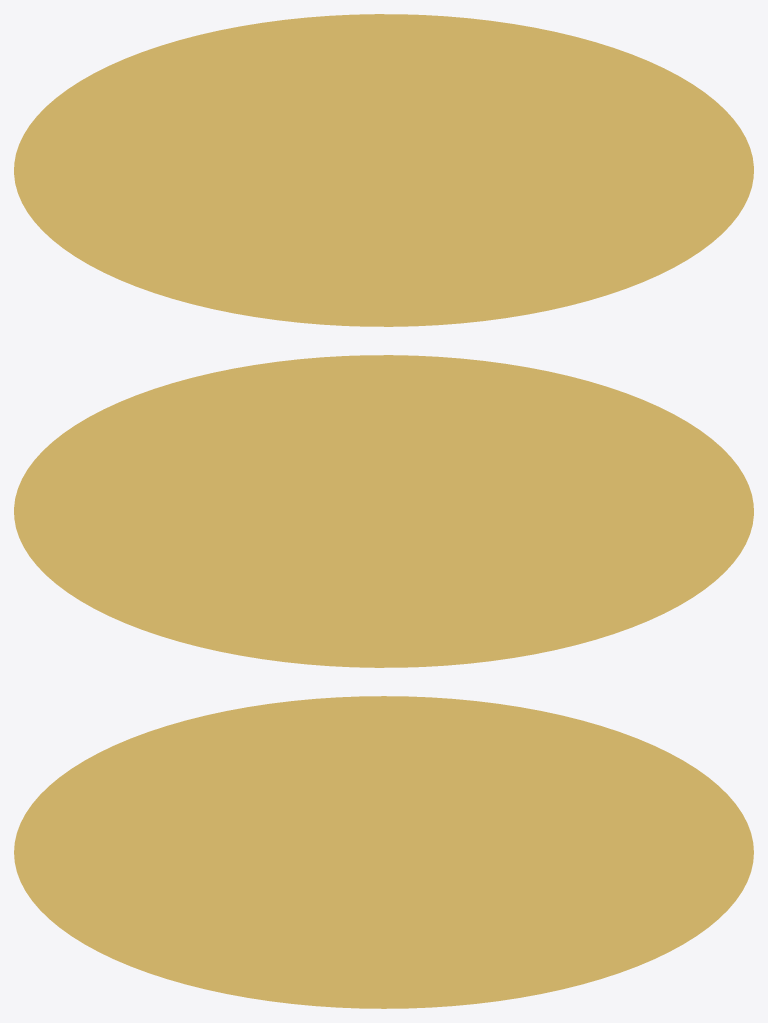
Rendered from ladle_steel.dae.
The picture shows the model from 3 angles, top to bottom: view 1: azimuth 30°, elevation 25°; view 2: azimuth 150°, elevation 25°; view 3: azimuth 270°, elevation 25°; orthographic projection.
Visible parts, largest first — view 1: mesh1-geometry_material0_IndexedFaceSet; view 2: mesh1-geometry_material0_IndexedFaceSet; view 3: mesh1-geometry_material0_IndexedFaceSet.
Part boxes in pixels (<box>): mesh1-geometry_material0_IndexedFaceSet: <box>14,14,753,326</box>; mesh1-geometry_material0_IndexedFaceSet: <box>14,355,753,667</box>; mesh1-geometry_material0_IndexedFaceSet: <box>14,696,753,1008</box>.
Size of the model in its own units: 2.03 by 0 by 2.03.
